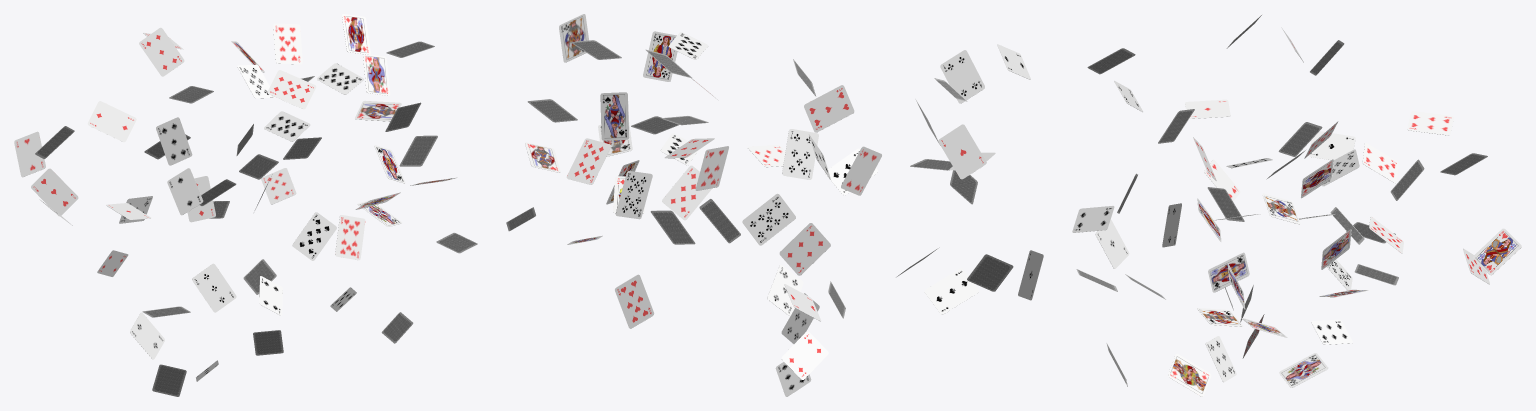
Rendered from cards.glb.
The picture shows the model from 3 angles, left to right: view 1: azimuth 30°, elevation 25°; view 2: azimuth 150°, elevation 25°; view 3: azimuth 270°, elevation 25°; orthographic projection. The views are drawn at different scales.
Parts seen in each view (by area): view 1: Curve.017, Curve.002, Curve.014, Curve.028, Curve.046, Curve.021, Curve.008, Curve.009, Curve.043, Curve.040, Curve.001, Curve.011 (+26 smaller); view 2: Curve.034, Curve, Curve.018, Curve.032, Curve.004, Curve.041, Curve.050, Curve.020, Curve.029, Curve.007, Curve.016, Curve.035 (+23 smaller); view 3: Curve.010, Curve.025, Curve.037, Curve.049, Curve.005, Curve.039, Curve.042, Curve.026, Curve.006, Curve.044, Curve.013, Curve.031 (+15 smaller).
Part boxes in pixels (left/top/right/bottom): Curve.017: left=139, top=27, right=184, bottom=76; Curve.002: left=31, top=168, right=78, bottom=216; Curve.014: left=87, top=101, right=136, bottom=142; Curve.028: left=192, top=263, right=236, bottom=312; Curve.046: left=292, top=212, right=336, bottom=260; Curve.021: left=267, top=70, right=316, bottom=109; Curve.008: left=273, top=23, right=302, bottom=64; Curve.009: left=335, top=215, right=365, bottom=260; Curve.043: left=156, top=117, right=192, bottom=165; Curve.040: left=167, top=168, right=203, bottom=215; Curve.001: left=14, top=131, right=45, bottom=177; Curve.011: left=363, top=54, right=390, bottom=95; Curve.034: left=742, top=193, right=795, bottom=245; Curve: left=938, top=124, right=986, bottom=179; Curve.018: left=779, top=223, right=830, bottom=275; Curve.032: left=782, top=129, right=818, bottom=179; Curve.004: left=804, top=85, right=854, bottom=132; Curve.041: left=924, top=268, right=978, bottom=314; Curve.050: left=600, top=92, right=629, bottom=140; Curve.020: left=662, top=165, right=712, bottom=220; Curve.029: left=940, top=50, right=984, bottom=103; Curve.007: left=615, top=274, right=654, bottom=328; Curve.016: left=781, top=331, right=828, bottom=379; Curve.035: left=615, top=171, right=652, bottom=219; Curve.010: left=1473, top=228, right=1521, bottom=275; Curve.025: left=1168, top=353, right=1211, bottom=396; Curve.037: left=1279, top=353, right=1327, bottom=387; Curve.049: left=1208, top=252, right=1249, bottom=292; Curve.005: left=1407, top=111, right=1453, bottom=135; Curve.039: left=1308, top=131, right=1355, bottom=160; Curve.042: left=1072, top=206, right=1114, bottom=232; Curve.026: left=1095, top=219, right=1129, bottom=268; Curve.006: left=1362, top=143, right=1398, bottom=183; Curve.044: left=1311, top=319, right=1352, bottom=344; Curve.013: left=1185, top=99, right=1230, bottom=118; Curve.031: left=1205, top=336, right=1236, bottom=382.
Size of the model in its own units: 1514 by 1125 by 1471.
Materials: 53 (53 with a texture image).
